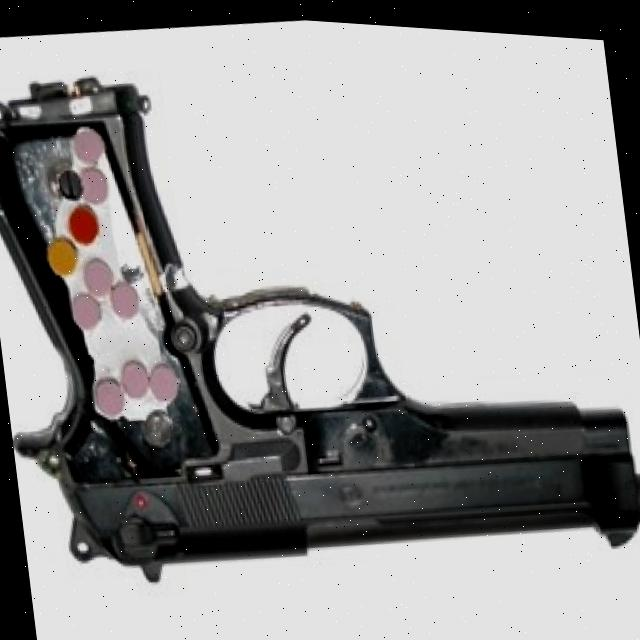pistol: (0, 11, 640, 618)
